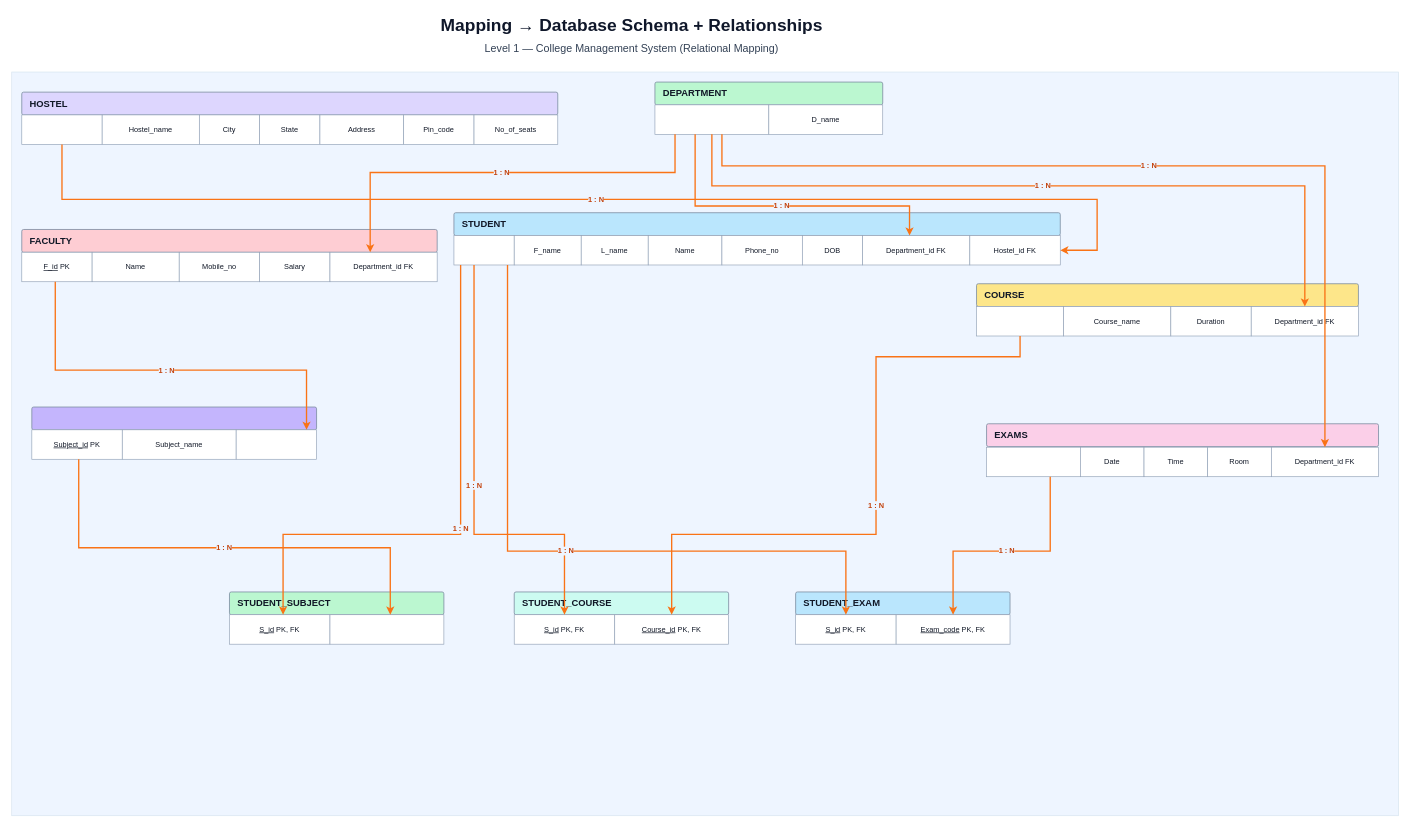
Some shapes in this 1410 by 827 pixel diagram are drawn without their labels. The shapes that lost their labels are listed below. From the top down, each one's centre as x and y in pixels, then its label:
At (x=61, y=129): "Hostel_id PK".
At (x=711, y=119): "Department_id PK".
At (x=483, y=250): "S_id PK".
At (x=1020, y=321): "Course_id PK".
At (x=174, y=418): "SUBJECT".
At (x=276, y=444): "F_id FK".
At (x=1033, y=462): "Exam_code PK".
At (x=386, y=629): "Subject_id PK, FK".
